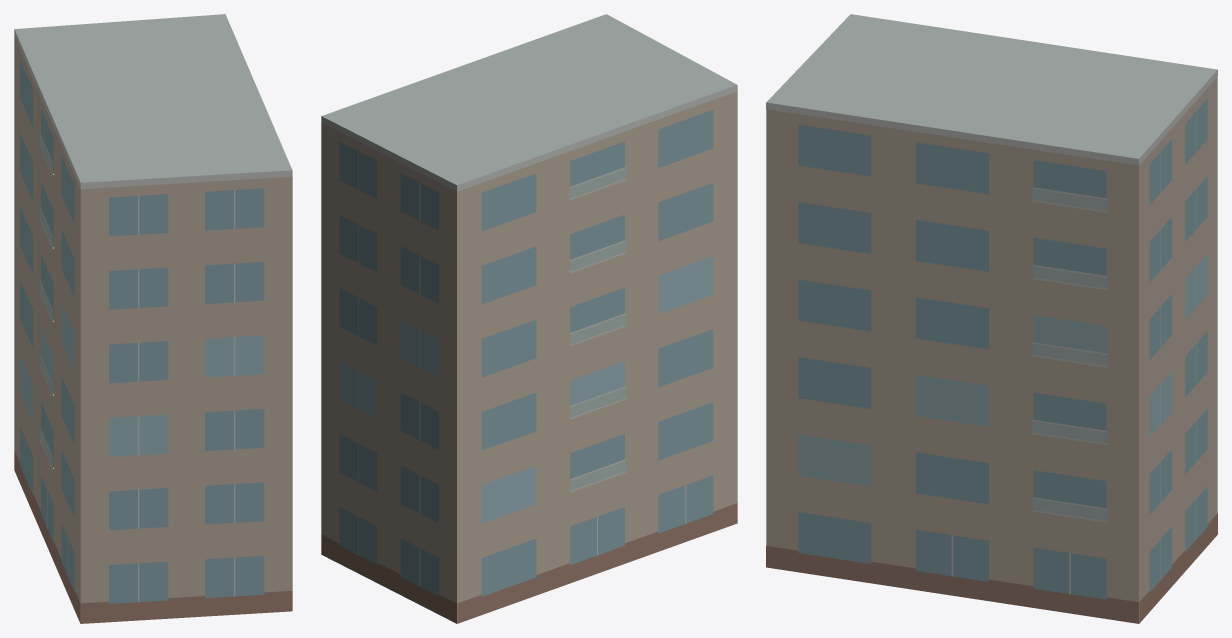
File: survey-upis-33045820.glb
The picture shows the model from 3 angles, left to right: view 1: azimuth 30°, elevation 25°; view 2: azimuth 150°, elevation 25°; view 3: azimuth 270°, elevation 25°; orthographic projection. The views are drawn at different scales.
Parts seen in each view (by area): view 1: survey-upis-33045820.tmp; view 2: survey-upis-33045820.tmp; view 3: survey-upis-33045820.tmp.
Boxes of the visible parts, x1,y1,x2,y2 form: survey-upis-33045820.tmp: (14, 14, 292, 623); survey-upis-33045820.tmp: (321, 14, 737, 623); survey-upis-33045820.tmp: (766, 14, 1217, 623).
Size of the model in its own units: 11.31 by 16.9 by 14.89.
